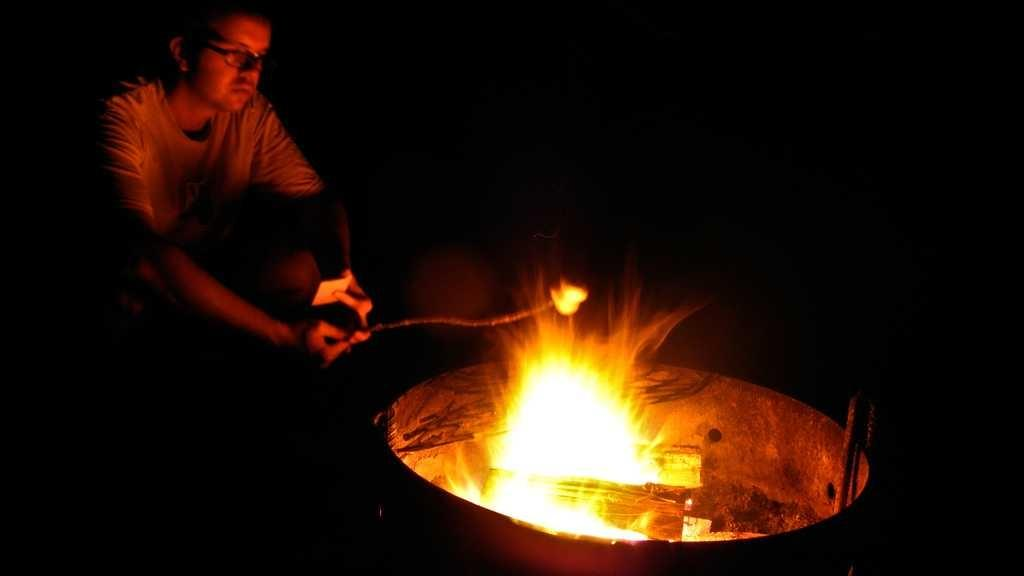fire: (513, 369, 649, 469), (499, 480, 584, 521)
